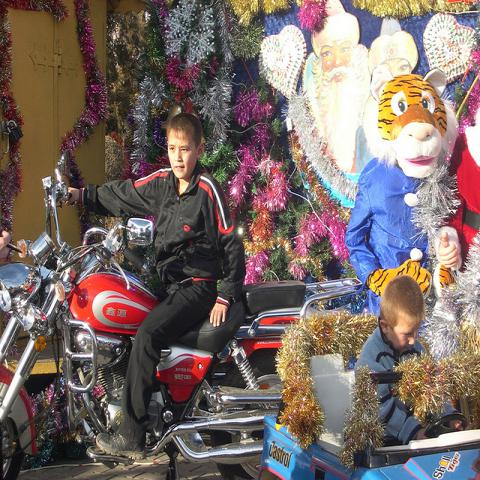motorcycle: (1, 176, 359, 474)
